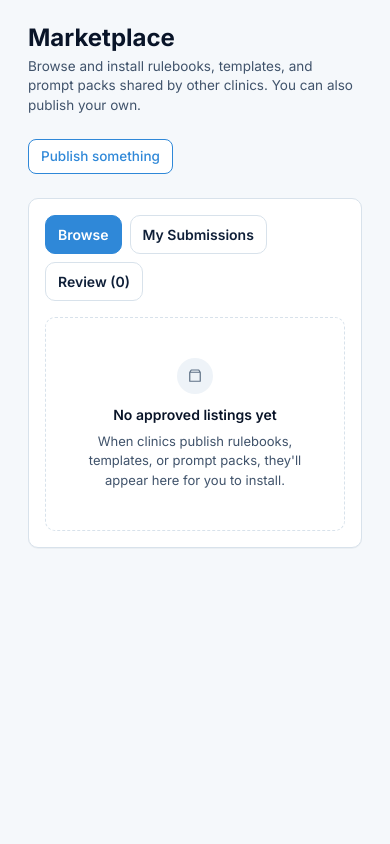
Test: marketplace page › publish form shows category selector
# Open the submit form
Click the button "Publish something".
click(100, 157)  # box [28, 140, 173, 174]
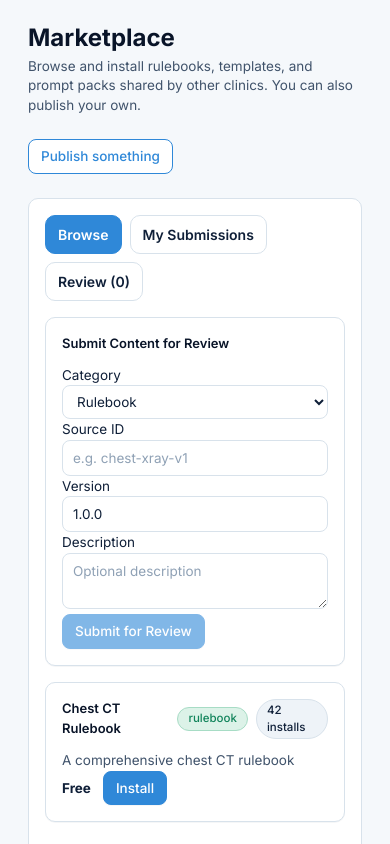
Expected: the element with test id "submit-form" is shown, [45, 317, 345, 666]
Expected: the text "Category" is shown, [62, 367, 328, 410]
